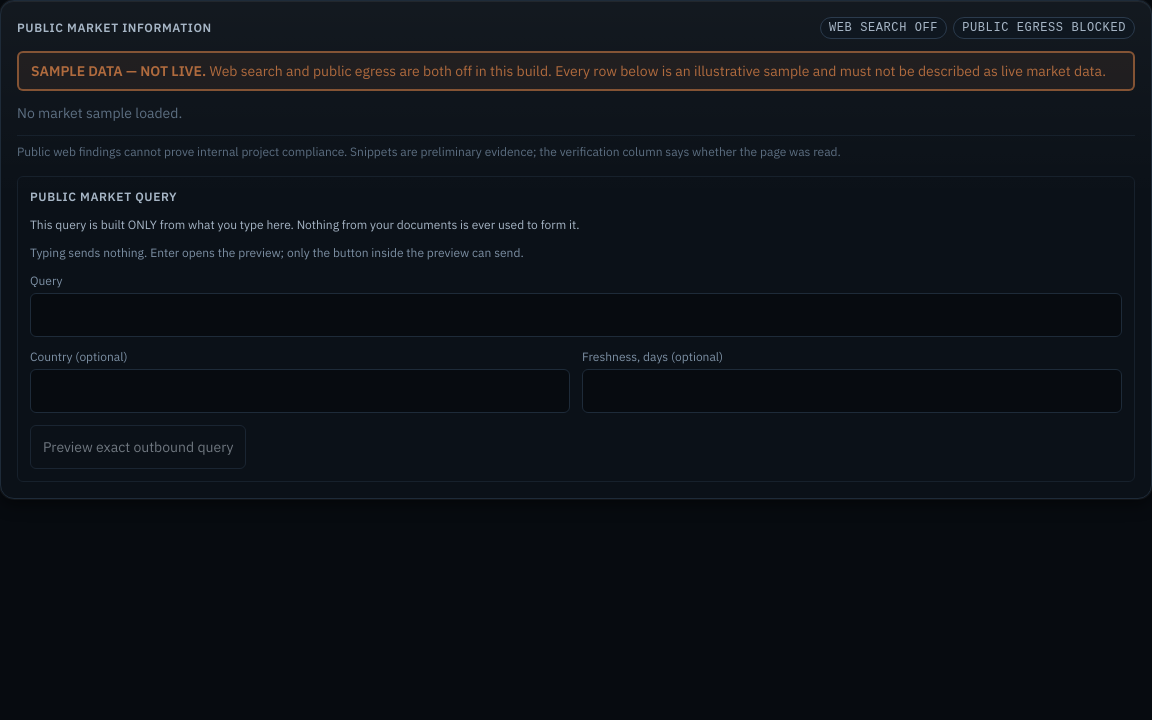
Test: market dialog: focus returns to the trigger on every close path › restores focus after CANCEL
Type "pump pressure standards" into the field labelled "Query" at [576, 315], box [30,293,1122,337]
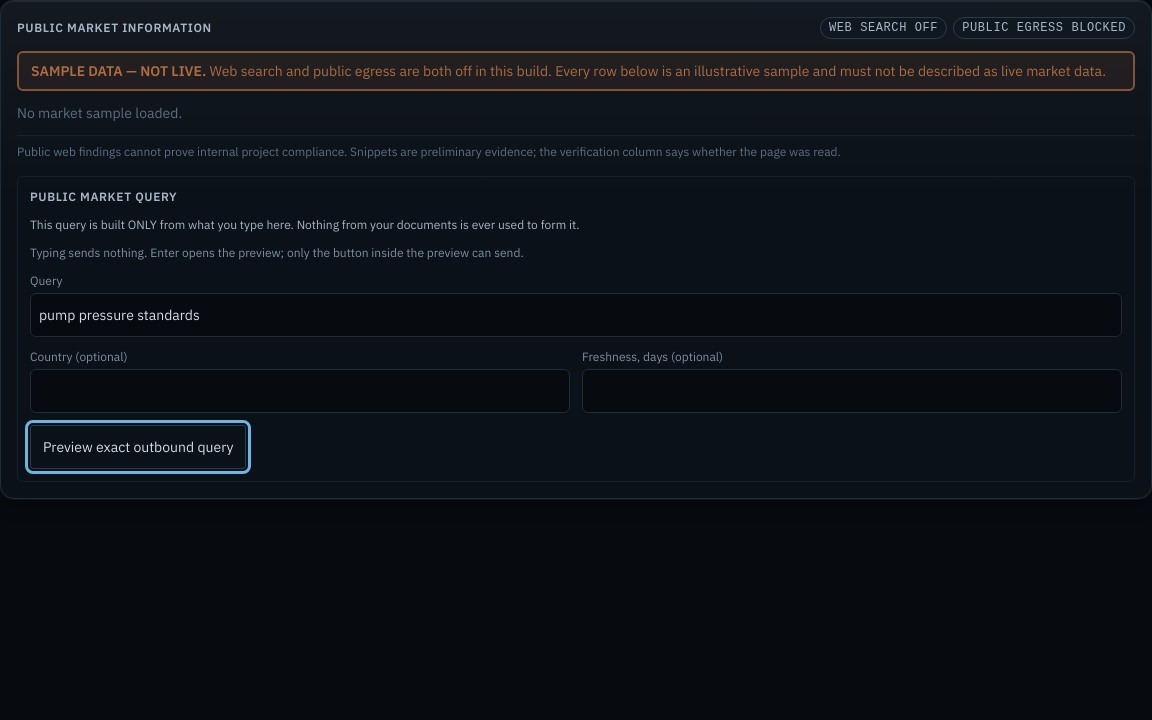
Click the button "Preview exact outbound query" at [138, 447], box [30,425,246,469]
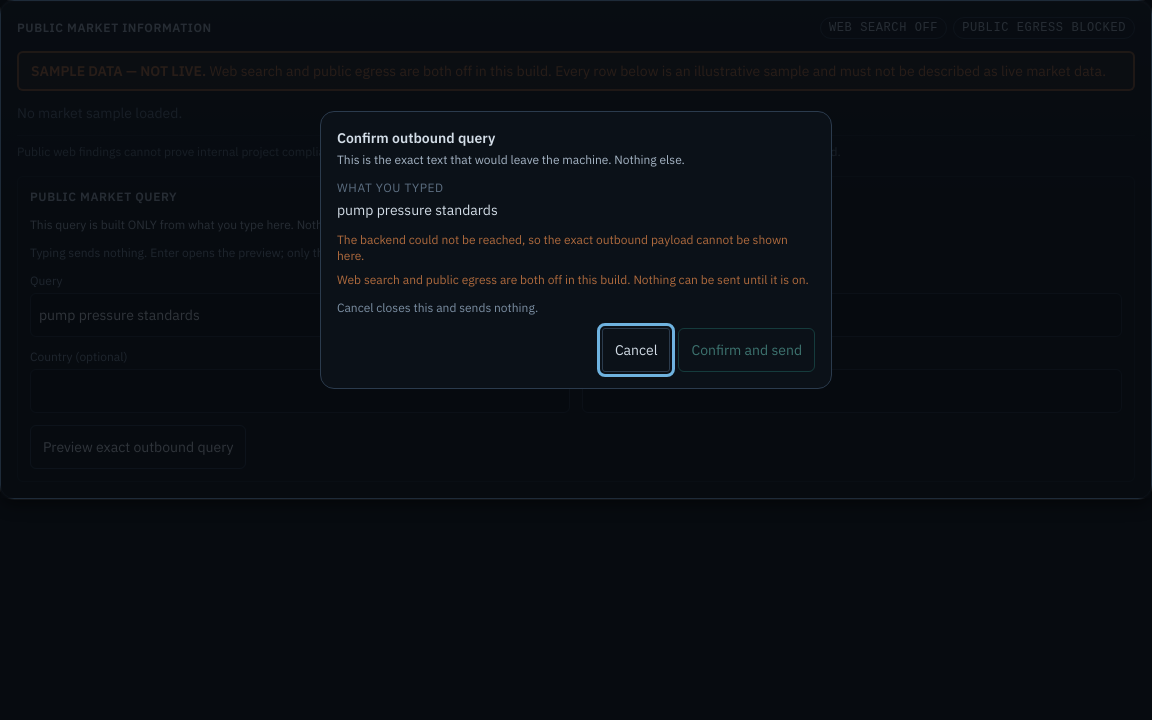
Click the button "Cancel" at [636, 350], box [602,328,670,372]
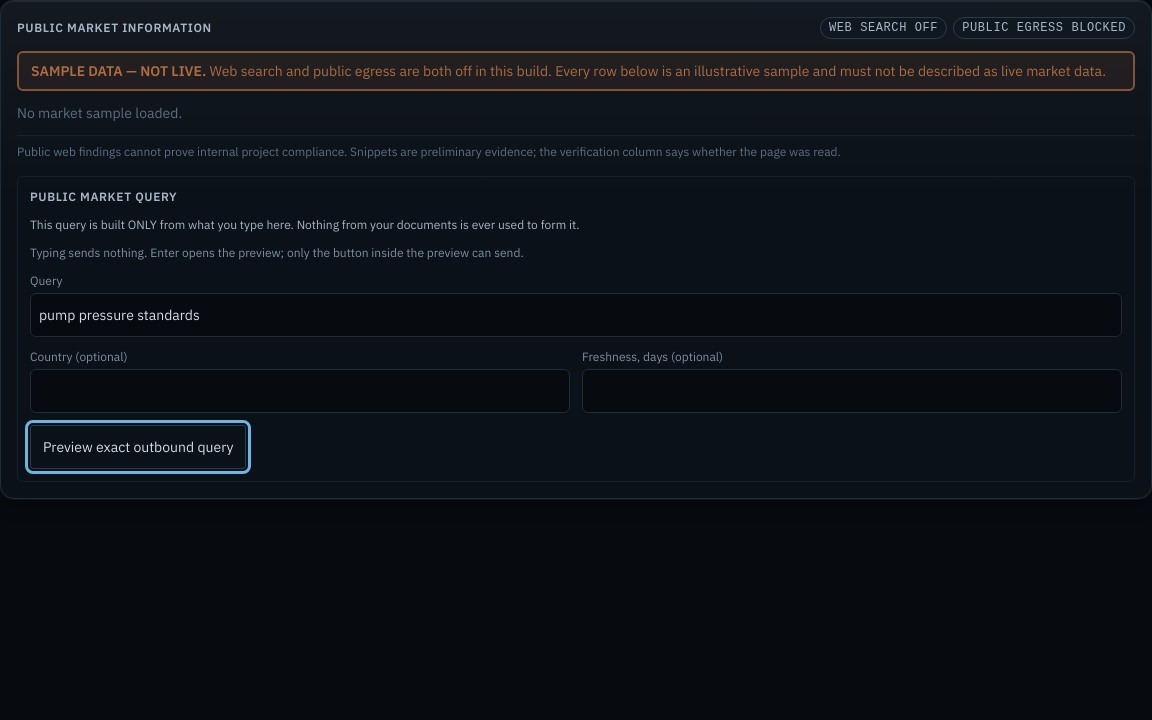
Check: the dialog is gone
